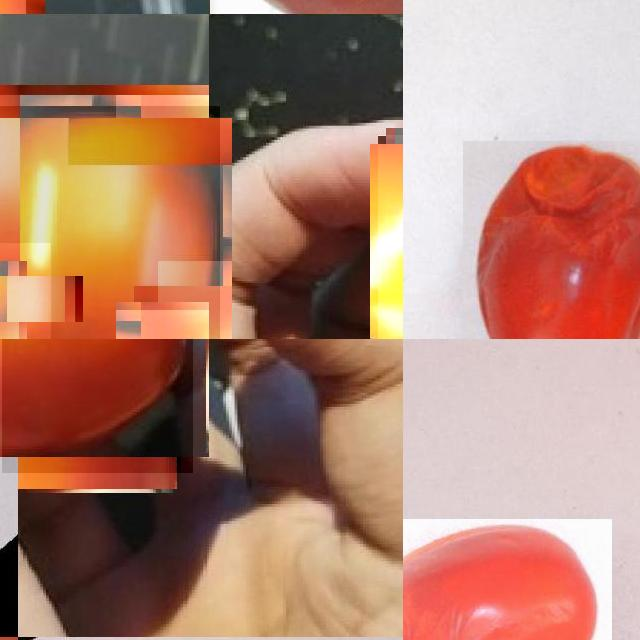Fresh Tomato: (0, 106, 220, 339), (0, 243, 51, 339), (116, 302, 209, 339)
Rotten Tomato: (463, 140, 640, 339), (2, 339, 193, 473), (403, 519, 612, 640)
